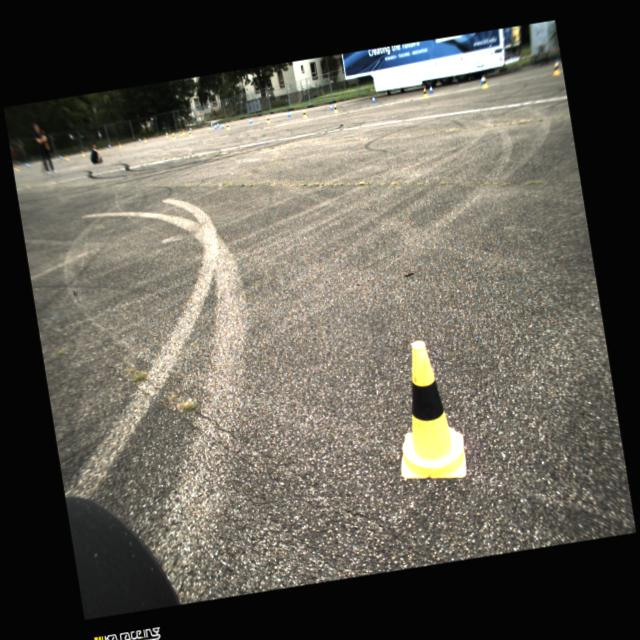blue_cone: (428, 85, 434, 94), (480, 76, 486, 85), (371, 96, 376, 104), (330, 103, 334, 111), (287, 111, 291, 118), (249, 117, 253, 124), (216, 121, 219, 128), (26, 163, 30, 168), (214, 124, 217, 130), (210, 122, 213, 128), (189, 126, 192, 132), (108, 144, 112, 148), (59, 155, 62, 160), (222, 122, 224, 129), (138, 138, 140, 142), (166, 132, 168, 136)
yellow_cone: (382, 337, 469, 486), (550, 62, 562, 76), (482, 78, 489, 89), (422, 88, 429, 99), (332, 104, 338, 113), (302, 111, 308, 119), (225, 122, 230, 130), (15, 164, 20, 172), (266, 115, 270, 124), (188, 130, 192, 138), (172, 132, 176, 140), (178, 130, 182, 136), (182, 128, 186, 134), (66, 155, 69, 161), (119, 142, 122, 148), (82, 151, 85, 156), (165, 132, 168, 137), (144, 138, 146, 142)
